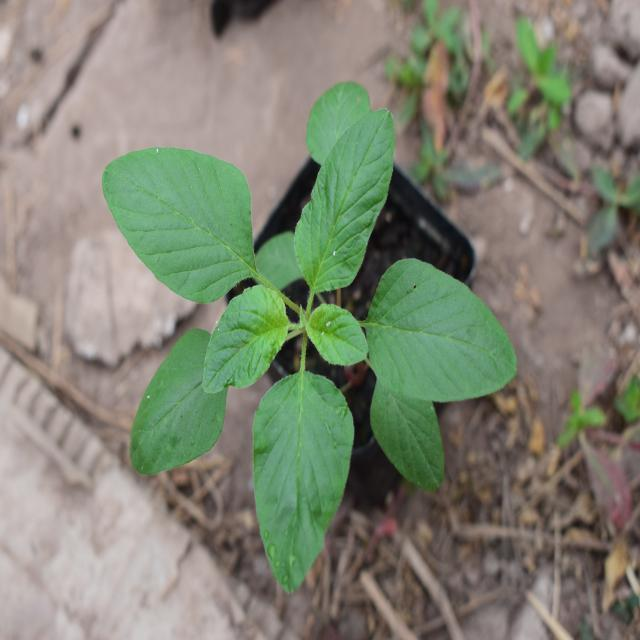pigweed: (112, 131, 494, 537)
